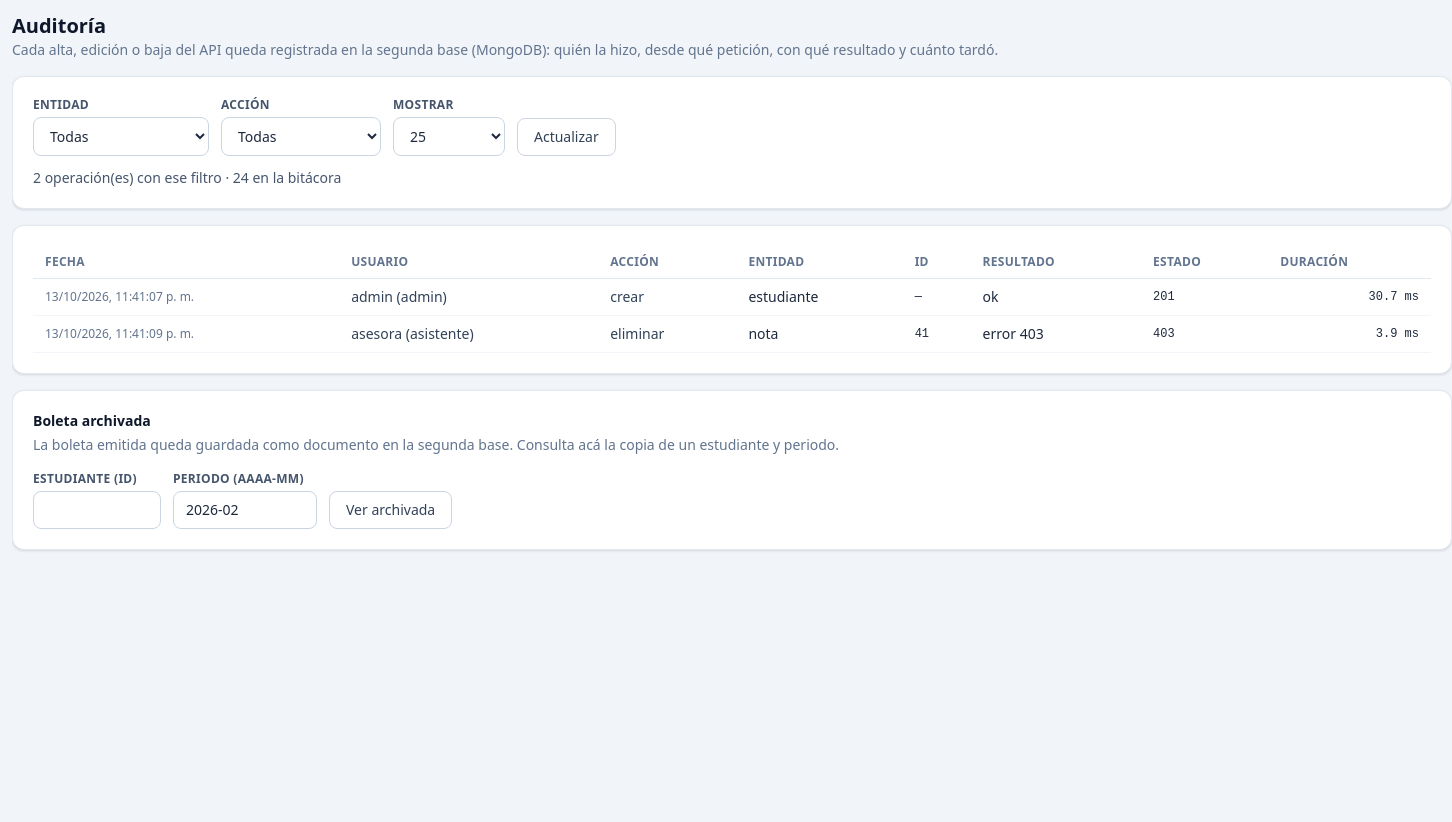
Test: pantalla de auditoría › consulta la boleta archivada de un estudiante y periodo
The image size is (1452, 822).
Expected: the table is shown, [33, 246, 1431, 353]
Type "7" into the field labelled "Estudiante (id)" at (97, 510), box [33, 491, 161, 529]
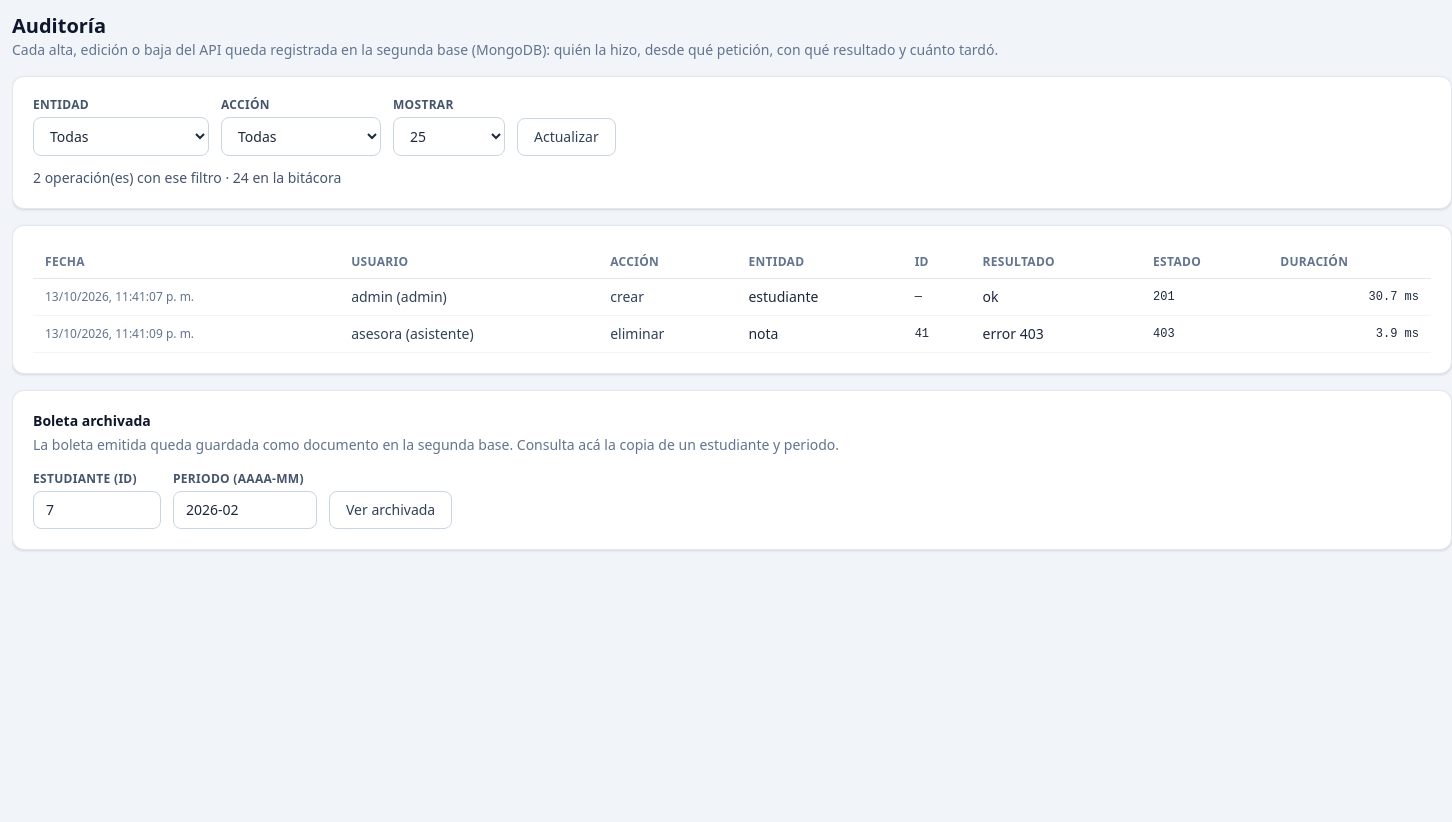
Submit the form "Ver archivada", box [33, 470, 452, 529]
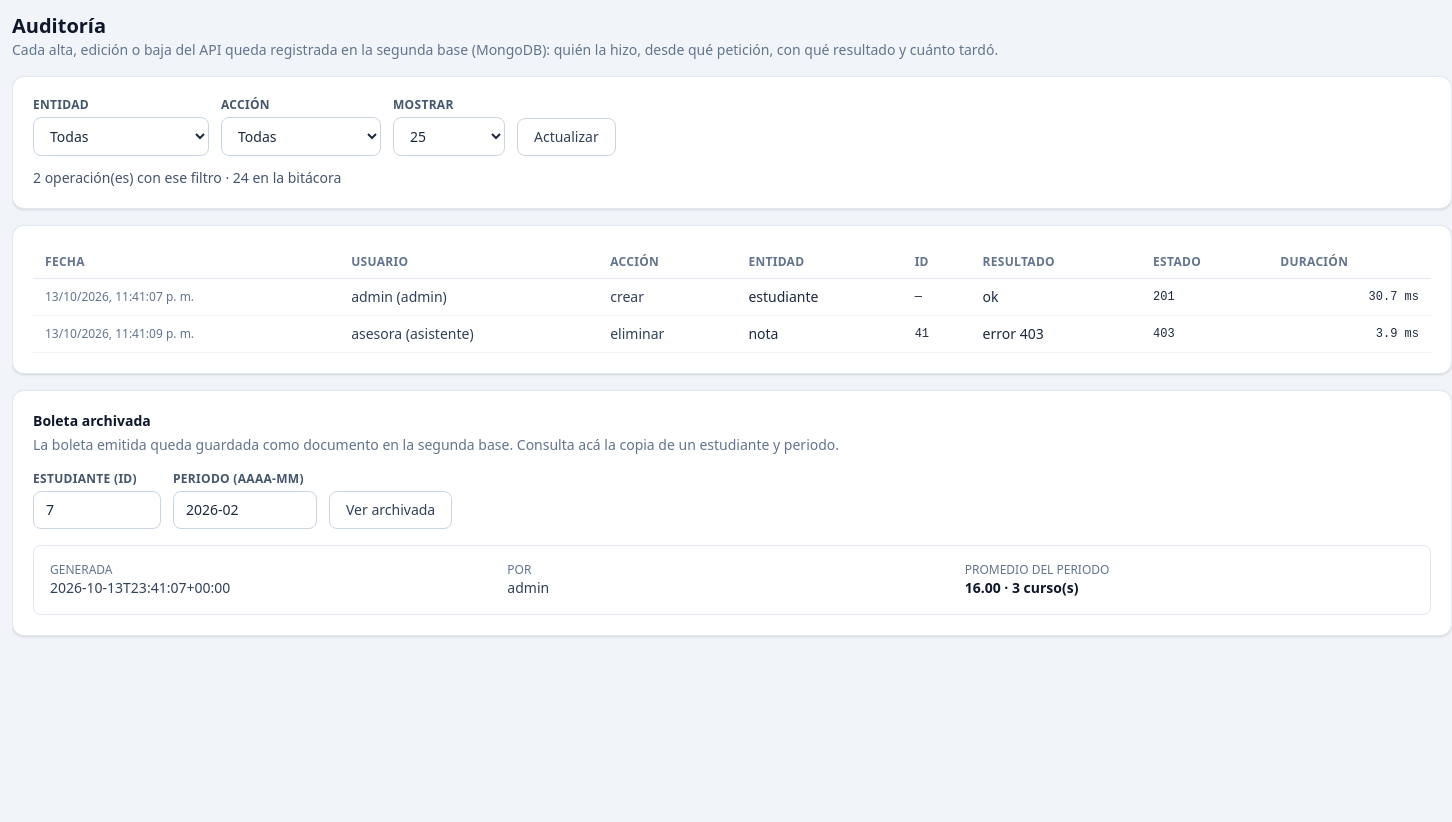
Expected: the text "16.00 · 3 curso(s)" is shown, [965, 578, 1078, 597]
Expected: the text "admin" is shown, [507, 578, 549, 597]
